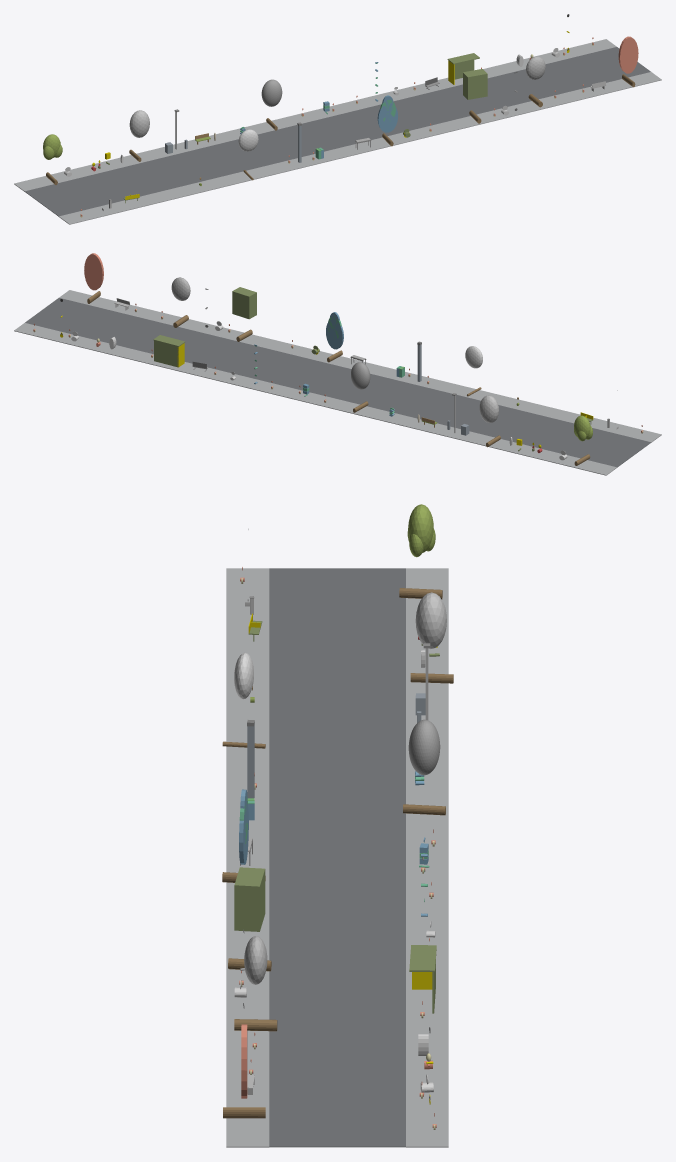
The picture shows the model from 3 angles, top to bottom: view 1: azimuth 30°, elevation 25°; view 2: azimuth 150°, elevation 25°; view 3: azimuth 270°, elevation 25°; orthographic projection. The views are drawn at different scales.
Visible parts, largest first — view 1: road_slab, sidewalk_left, sidewalk_right, inst_0023, inst_0025, inst_0022, inst_0026, inst_0019, inst_0021, inst_0018, inst_0024, inst_0020; view 2: road_slab, sidewalk_right, sidewalk_left, inst_0026, inst_0023, inst_0025, inst_0022, inst_0019, inst_0021, inst_0018, inst_0024, inst_0020; view 3: road_slab, sidewalk_right, sidewalk_left, inst_0023, inst_0021, inst_0019, inst_0018, inst_0024, inst_0026, inst_0025, inst_0020.
Part boxes in pixels (x1=…): road_slab: x1=24, y1=47, x2=650, y2=216; sidewalk_left: x1=59, y1=72, x2=661, y2=224; sidewalk_right: x1=14, y1=39, x2=616, y2=191; inst_0023: x1=463, y1=69, x2=487, y2=123; inst_0025: x1=618, y1=36, x2=638, y2=87; inst_0022: x1=377, y1=95, x2=398, y2=146; inst_0026: x1=447, y1=53, x2=479, y2=84; inst_0019: x1=129, y1=110, x2=149, y2=161; inst_0021: x1=261, y1=79, x2=282, y2=130; inst_0018: x1=43, y1=134, x2=62, y2=184; inst_0024: x1=526, y1=56, x2=545, y2=107; inst_0020: x1=238, y1=129, x2=258, y2=180; road_slab: x1=25, y1=298, x2=651, y2=467; sidewalk_right: x1=14, y1=323, x2=616, y2=475; sidewalk_left: x1=59, y1=290, x2=661, y2=442; inst_0026: x1=153, y1=335, x2=185, y2=367; inst_0023: x1=232, y1=287, x2=256, y2=341; inst_0025: x1=84, y1=253, x2=103, y2=303; inst_0022: x1=326, y1=312, x2=343, y2=362; inst_0019: x1=479, y1=395, x2=500, y2=447; inst_0021: x1=351, y1=362, x2=370, y2=412; inst_0018: x1=574, y1=415, x2=592, y2=465; inst_0024: x1=171, y1=277, x2=190, y2=327; inst_0020: x1=465, y1=346, x2=482, y2=396; road_slab: x1=269, y1=568, x2=405, y2=1147; sidewalk_right: x1=406, y1=568, x2=448, y2=1147; sidewalk_left: x1=226, y1=568, x2=269, y2=1147; inst_0023: x1=228, y1=867, x2=271, y2=971; inst_0021: x1=403, y1=719, x2=445, y2=815; inst_0019: x1=410, y1=592, x2=453, y2=683; inst_0018: x1=399, y1=504, x2=442, y2=599; inst_0024: x1=234, y1=936, x2=277, y2=1031; inst_0026: x1=409, y1=945, x2=436, y2=1013; inst_0025: x1=223, y1=1024, x2=265, y2=1118; inst_0020: x1=222, y1=652, x2=265, y2=748.
Size of the model in its own units: 80 by 6.08 by 13.53.
